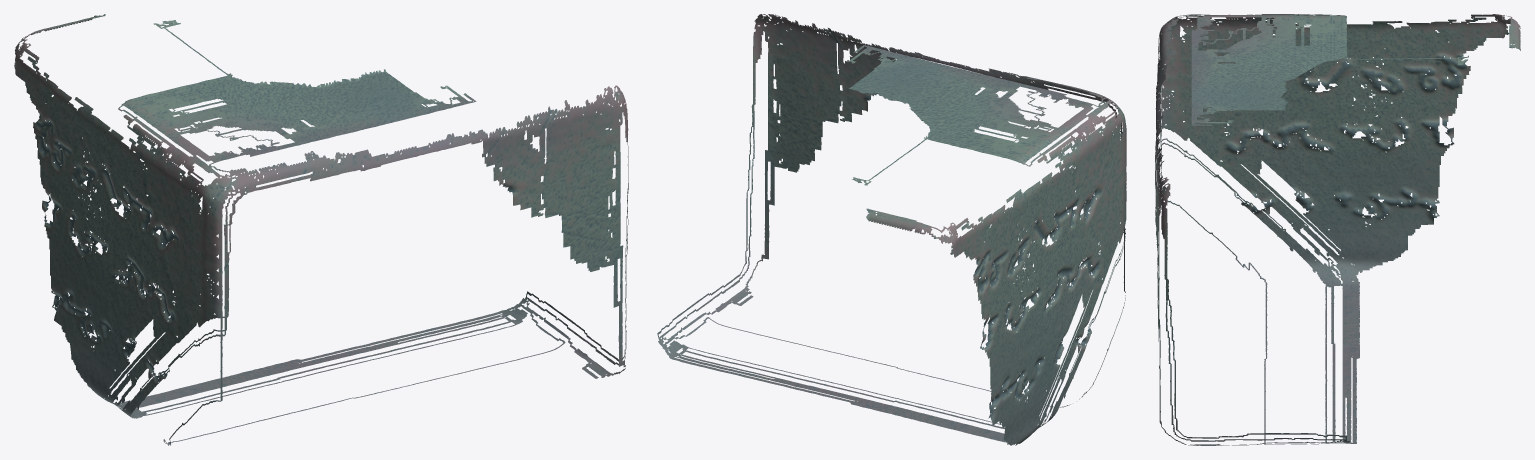
File: cthulhu17_material_0.003_lev1.glb
The picture shows the model from 3 angles, left to right: view 1: azimuth 30°, elevation 25°; view 2: azimuth 150°, elevation 25°; view 3: azimuth 270°, elevation 25°; orthographic projection. The views are drawn at different scales.
Parts seen in each view (by area): view 1: cthulhu17_material_0.003_lev1; view 2: cthulhu17_material_0.003_lev1; view 3: cthulhu17_material_0.003_lev1.
Part boxes in pixels (x1,y1,x2,y2): cthulhu17_material_0.003_lev1: (14, 14, 628, 445); cthulhu17_material_0.003_lev1: (657, 14, 1126, 445); cthulhu17_material_0.003_lev1: (1155, 14, 1520, 445).
Size of the model in its own units: 2.46 by 1.72 by 2.12.
